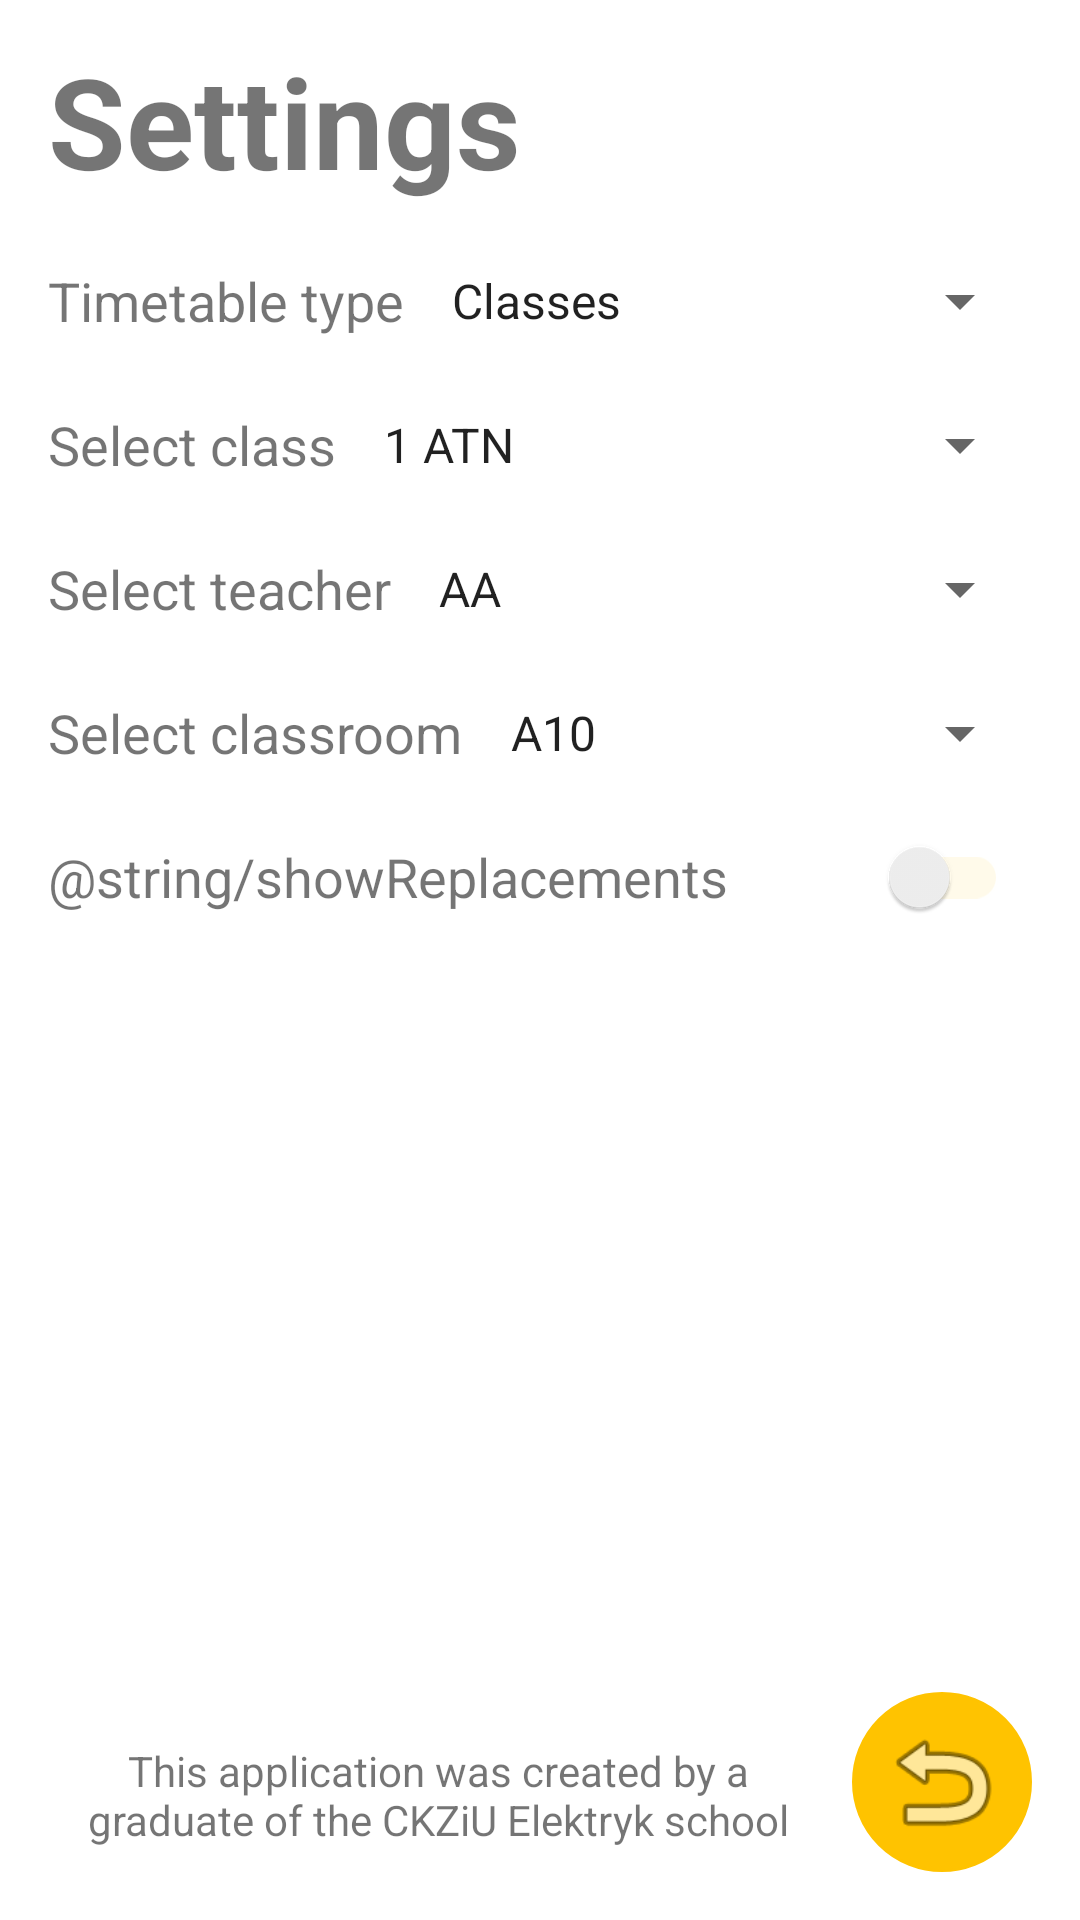

Where to tap for icons on this 1080px×1920px app screen, as point (x, y):
Go back: point (942, 1782)
